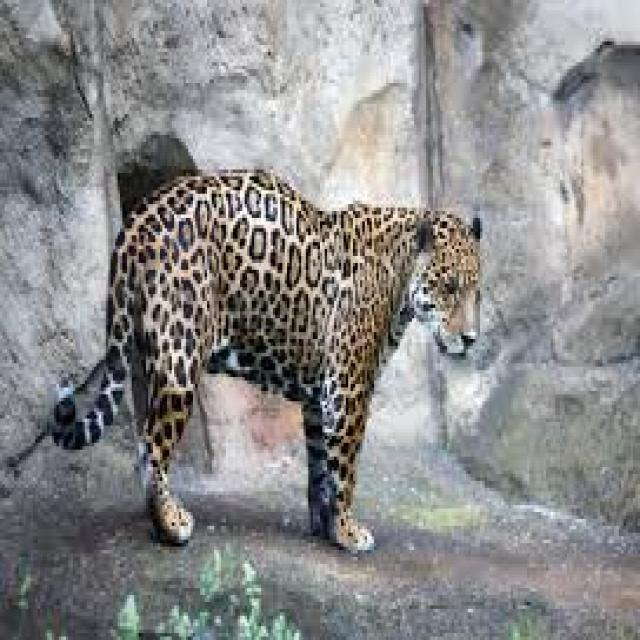Jaguar: (54, 170, 482, 554)
